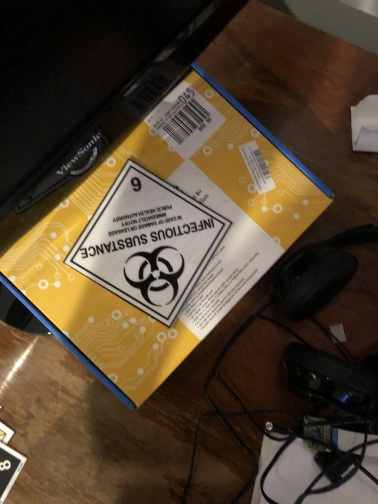InfectiousSubstance: (65, 160, 231, 328)
